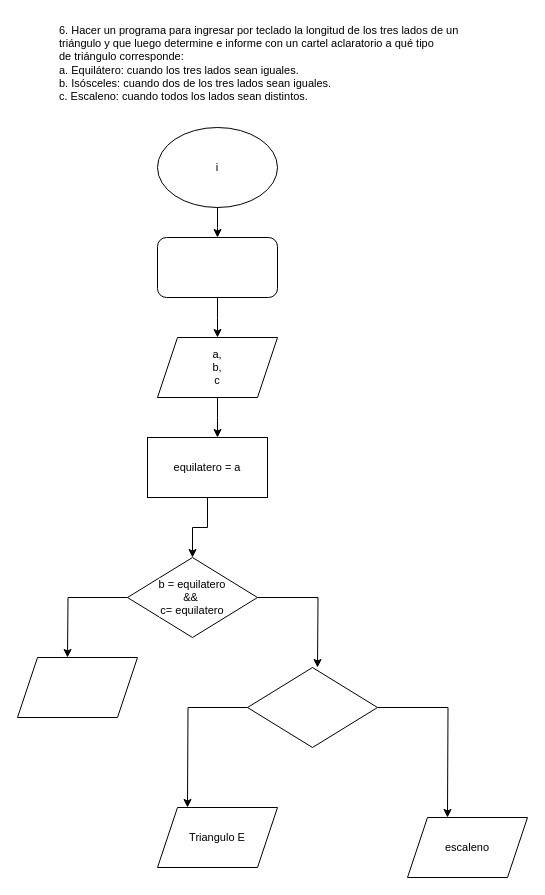
Some shapes in this 545 by 895 pixel diagram are drawn without their labels. The box of each missing label's shape, as (x1, y1, x2, y2) in pixels:
" T.E": (16, 656, 138, 718)
a,b,c: (156, 236, 278, 298)
b <> equilatero && c <> b: (246, 666, 378, 748)
